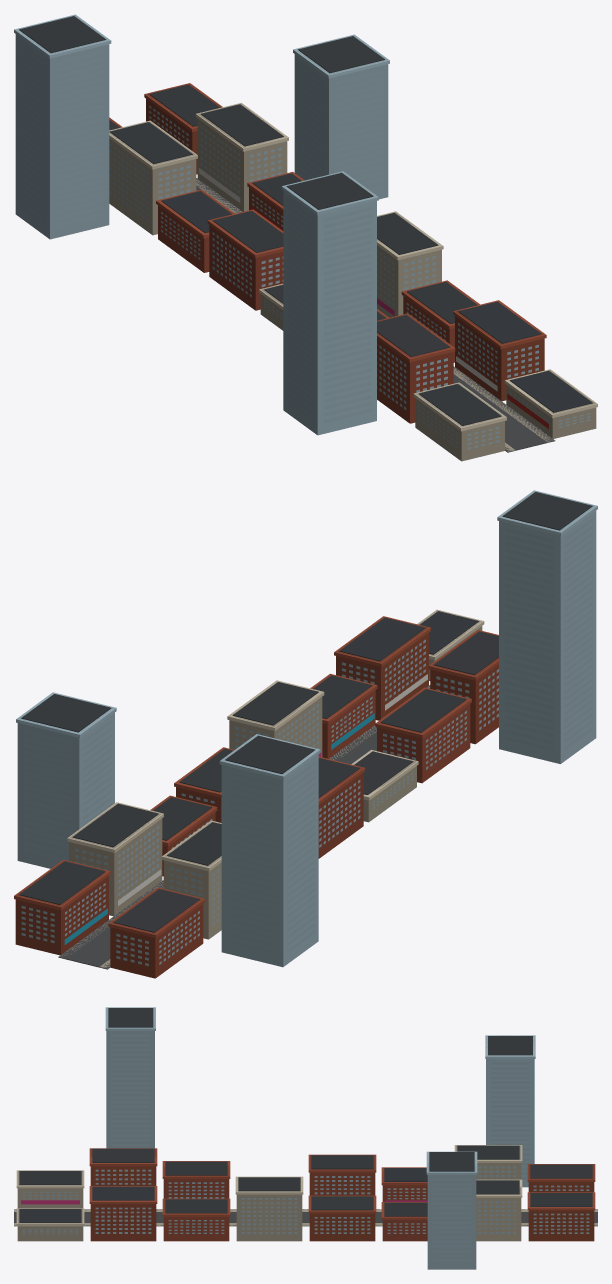
3 views of the same model, one above another, from view 1: azimuth 30°, elevation 25°; view 2: azimuth 150°, elevation 25°; view 3: azimuth 270°, elevation 25° (orthographic). The views are drawn at different scales.
Visible parts, largest first — view 1: flushing-main-street-lod0; view 2: flushing-main-street-lod0; view 3: flushing-main-street-lod0.
Part boxes in pixels (x1,y1,x2,y2): flushing-main-street-lod0: (14, 14, 597, 461); flushing-main-street-lod0: (14, 490, 597, 978); flushing-main-street-lod0: (14, 1007, 597, 1269).
Size of the model in its own units: 151 by 108 by 360.
